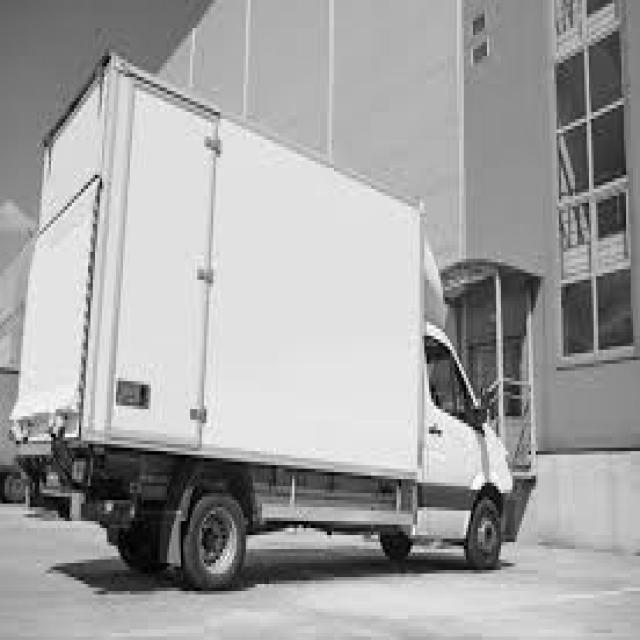truck: (8, 46, 525, 592)
